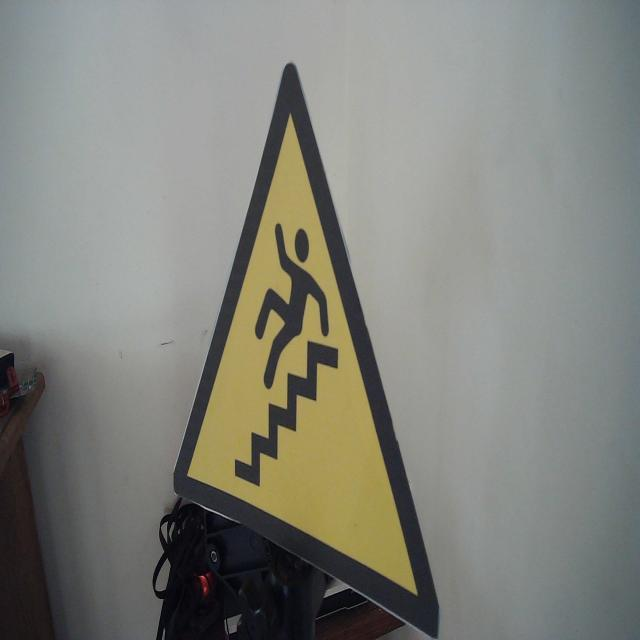stairs: (172, 61, 442, 640)
